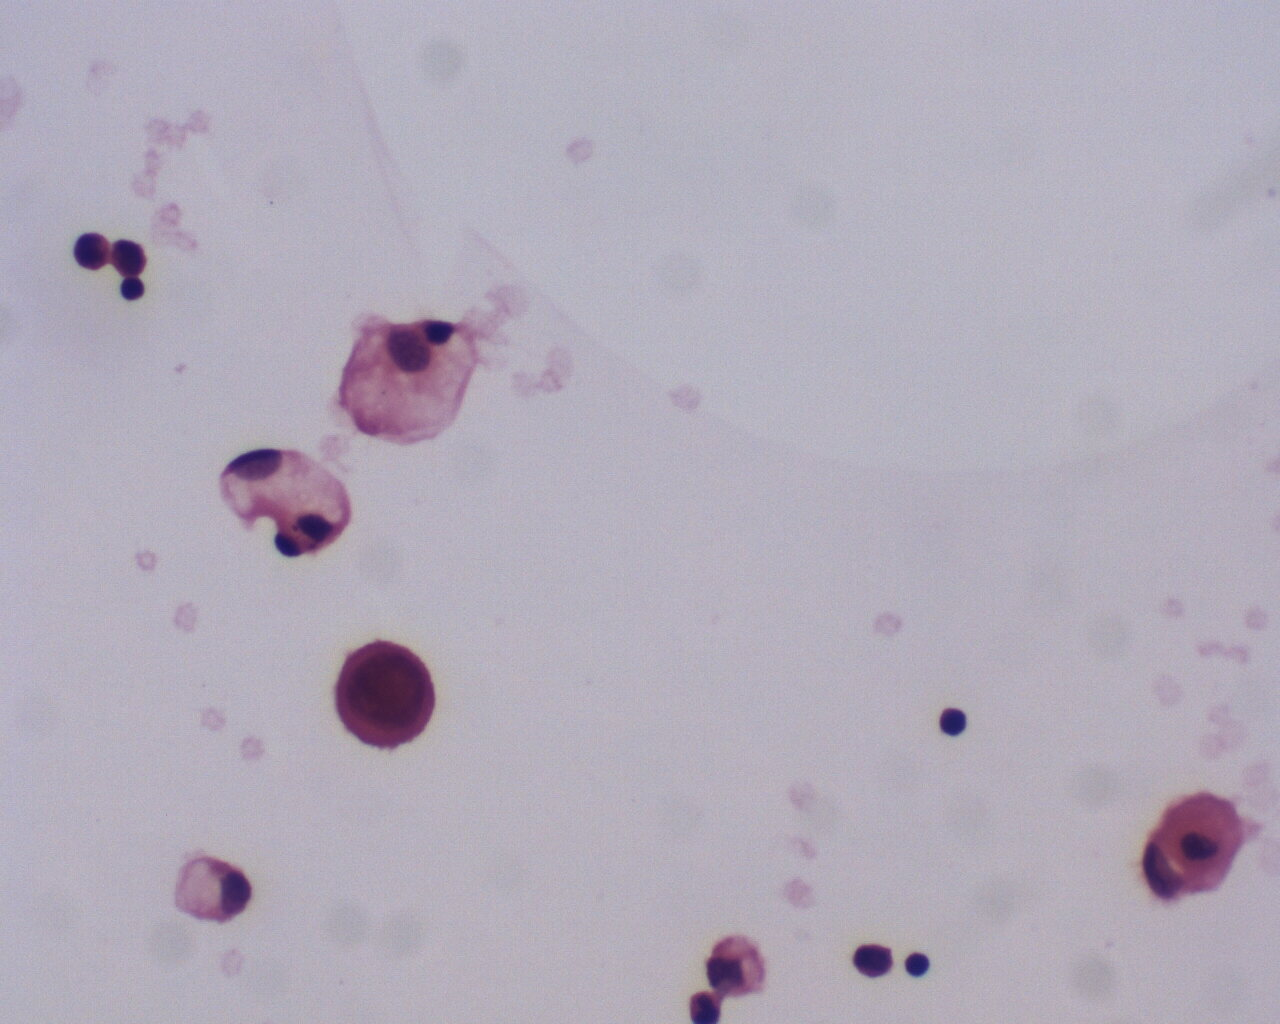ab: (326, 629, 444, 766)
histo: (336, 303, 479, 449)
lymph: (904, 944, 938, 984), (935, 705, 970, 739)
